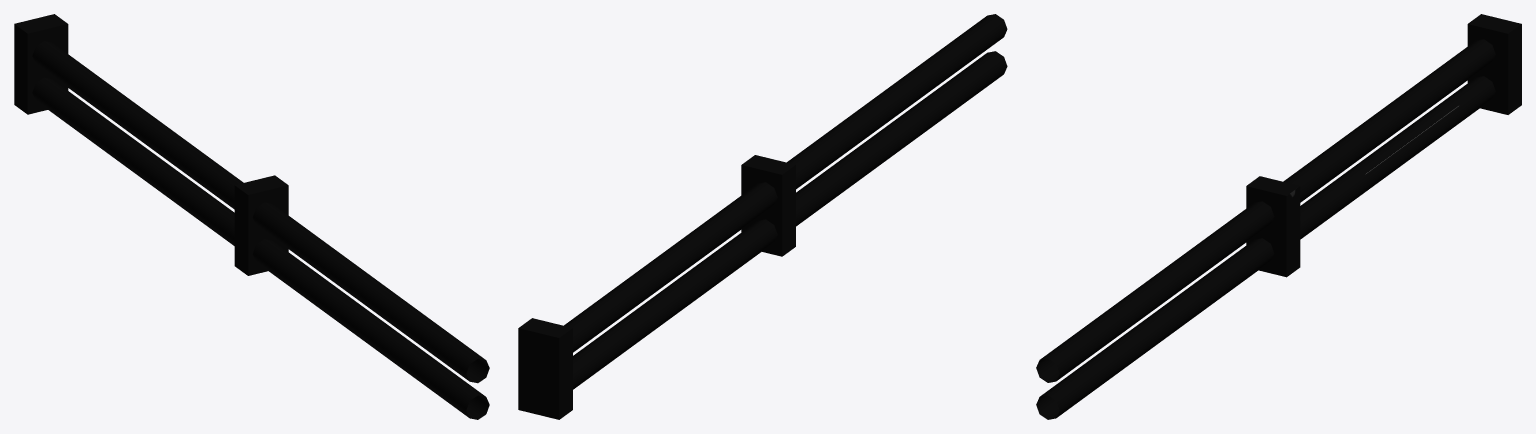
Rendered from WireFence2.fbx.
3 renders of one model, left to right at view 1: azimuth 30°, elevation 25°; view 2: azimuth 150°, elevation 25°; view 3: azimuth 330°, elevation 25°, orthographic.
Parts seen in each view (by area): view 1: Pipes; view 2: Pipes; view 3: Pipes.
Boxes of the visible parts, box(x1,y1,x2,y2) form: Pipes: box(14, 14, 489, 419); Pipes: box(518, 14, 1007, 419); Pipes: box(1036, 14, 1521, 419).
Size of the model in its own units: 21.17 by 40.53 by 406.
Materials: 1 (1 with a texture image).
